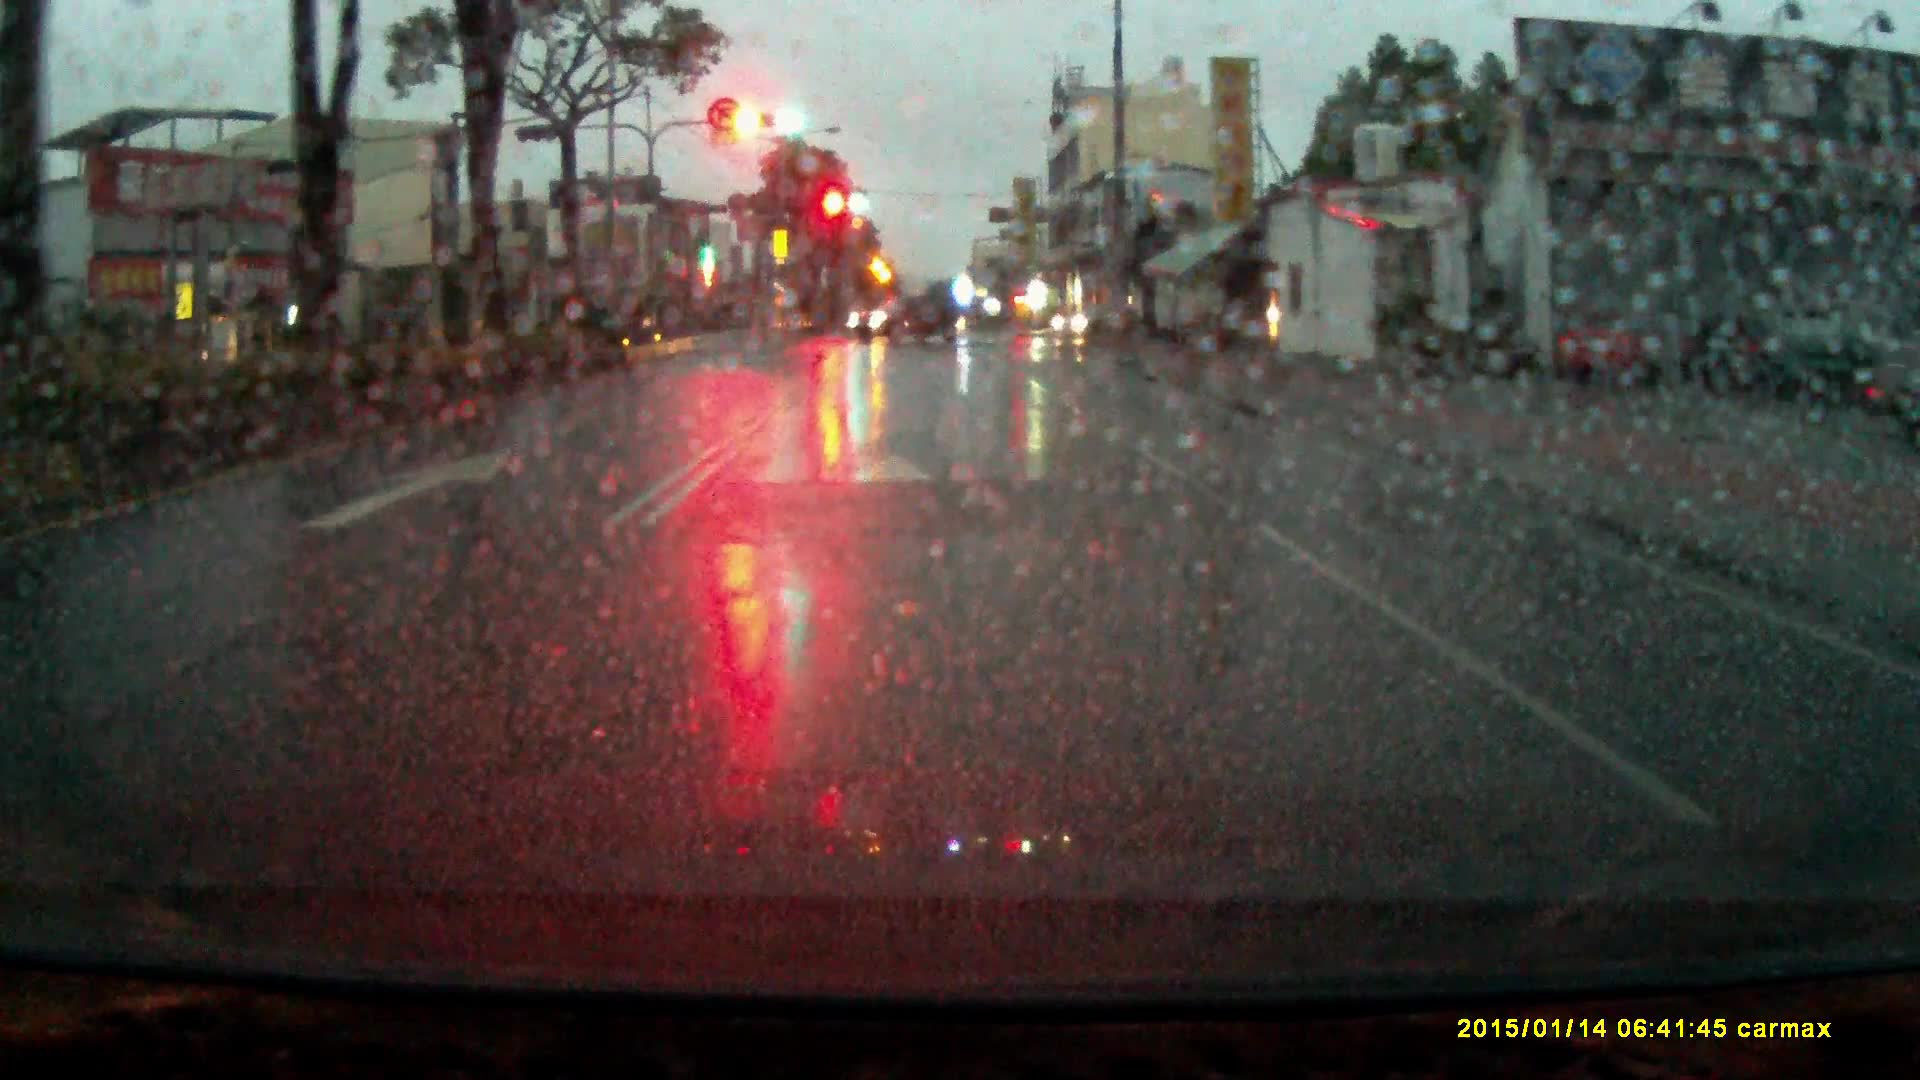vehicle: (848, 287, 965, 349), (1051, 302, 1142, 342)
